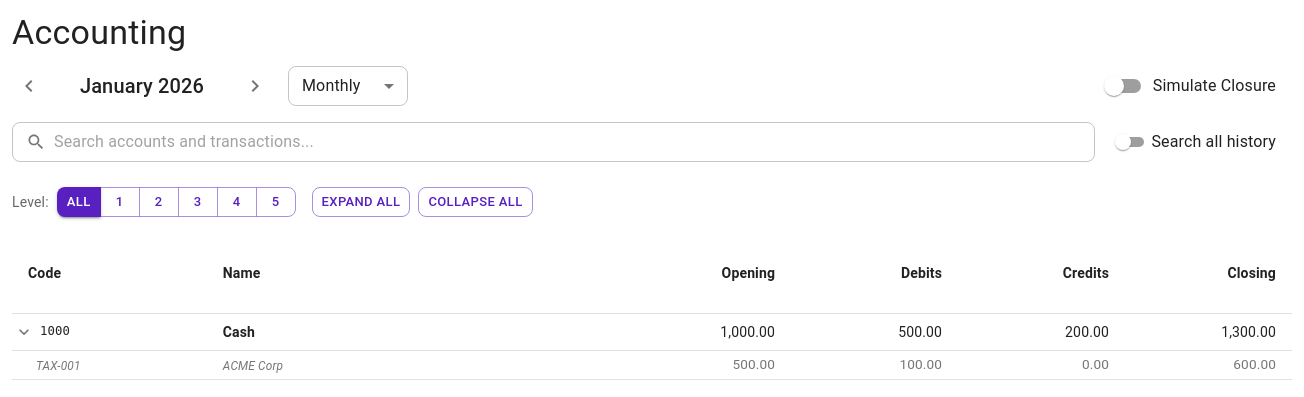
AccountingPage › shouldNavigateToTransactionView_whenTransactionResultSelected
The width and height of the screenshot is (1304, 397).
Expected: the text "Cash" is shown, 207,314 -> 624,351
Step 1. Type "inv" into the field → (575, 142), box 54,122 -> 1095,162
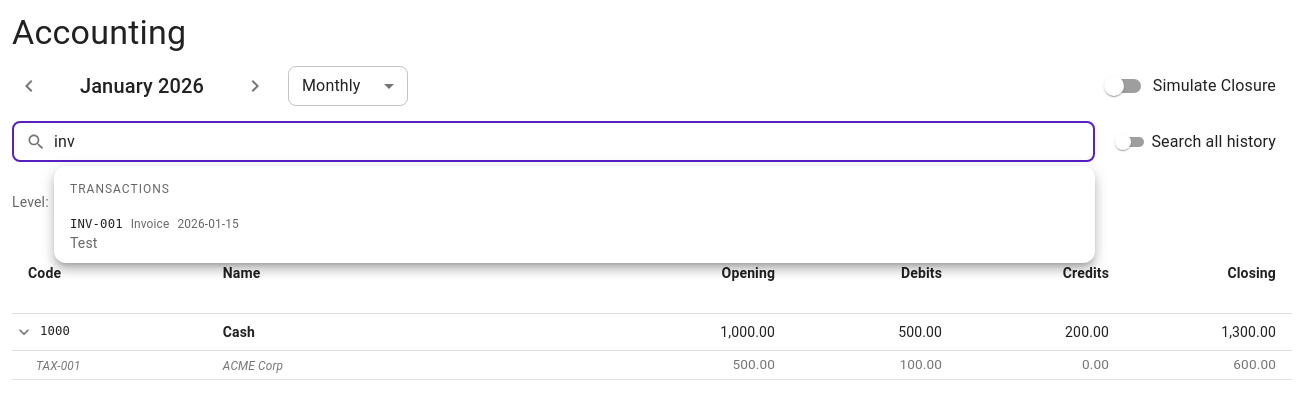
Expected: the text "INV-001" is shown
Step 2. Click the text "INV-001" → (96, 225), box 70,216 -> 123,233
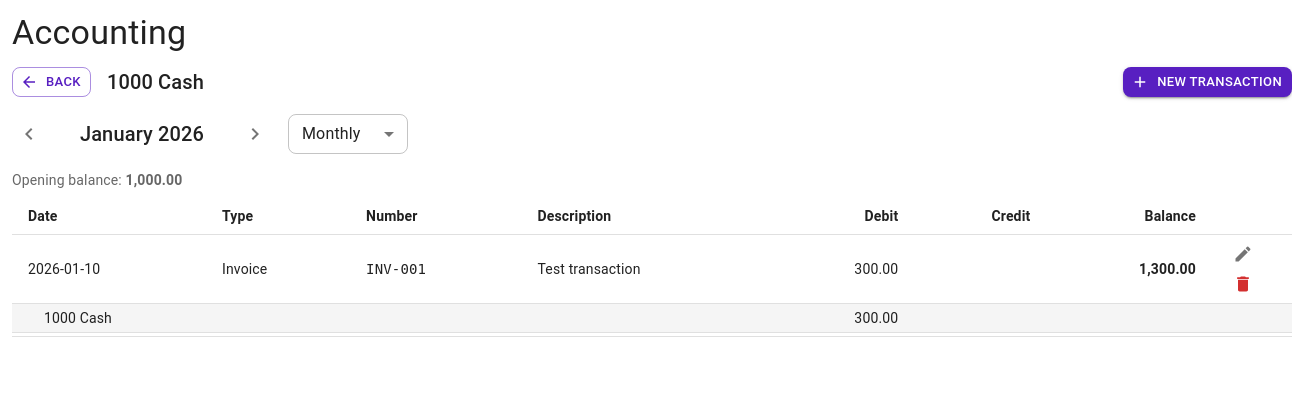
Expected: the button "Back" is shown, 12,66 -> 91,97
